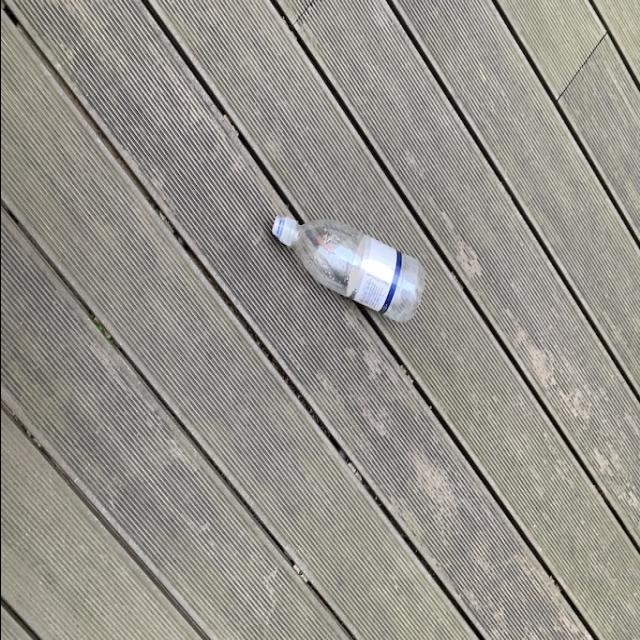litter: (266, 212, 426, 324)
